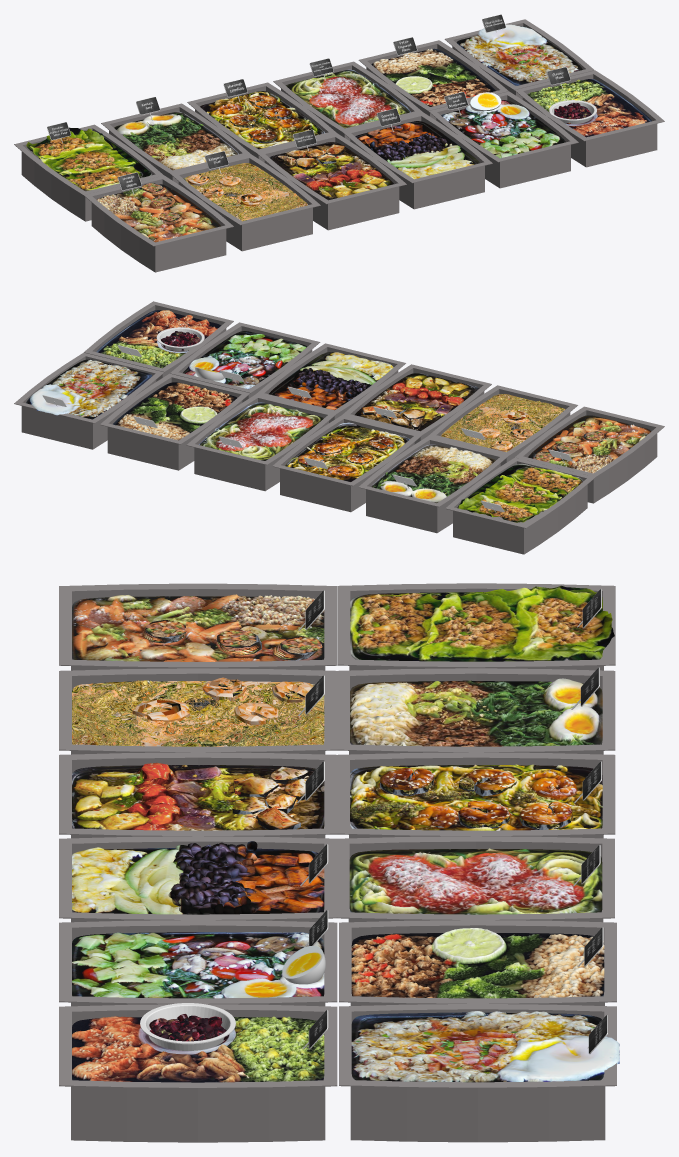
The model's file is food_pack.glb.
3 views of the same model, one above another, from view 1: azimuth 30°, elevation 25°; view 2: azimuth 150°, elevation 25°; view 3: azimuth 270°, elevation 25° (orthographic). The views are drawn at different scales.
Parts seen in each view (by area): view 1: Material2 (×15); view 2: Material2 (×15); view 3: Material2 (×15).
Part boxes in pixels (<box>): Material2 (×15): <box>14,14,664,272</box>; Material2 (×15): <box>14,301,664,554</box>; Material2 (×15): <box>59,583,619,1142</box>.
Bounding box in the file's own units: 47.39 × 4.12 × 22.26.
32 materials, 24 textured.
